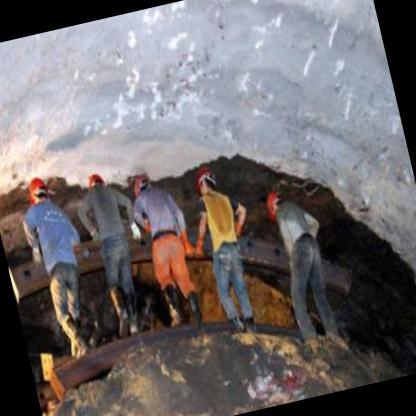helmet: (20, 172, 56, 217), (128, 170, 160, 208), (192, 164, 223, 202), (263, 189, 289, 226), (84, 167, 111, 196)
